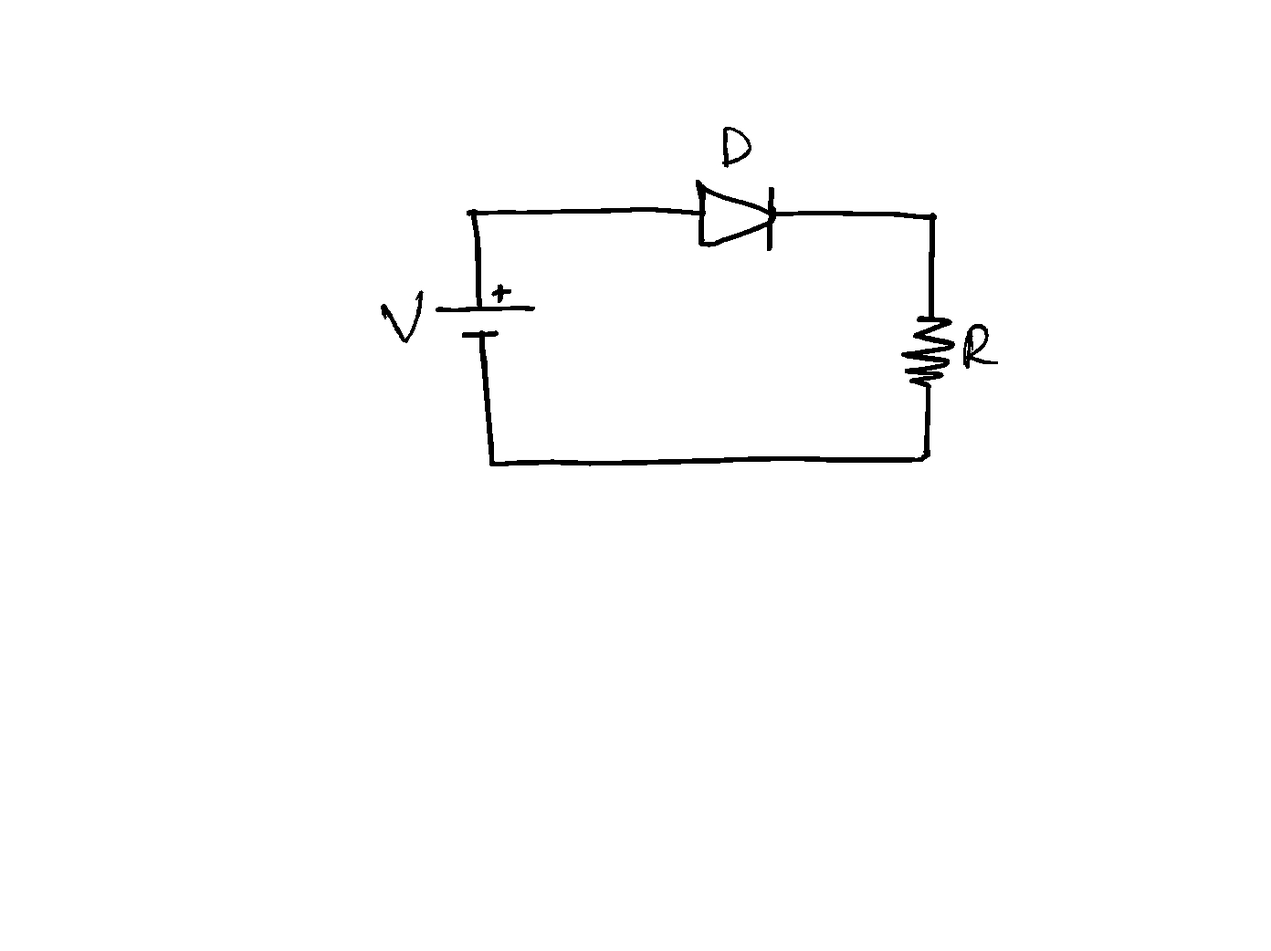diode: (695, 180, 778, 253)
junction: (912, 449, 932, 466), (484, 455, 500, 473), (465, 204, 480, 221), (926, 209, 940, 224)
resistor: (900, 313, 956, 388)
text: (379, 289, 425, 344), (961, 321, 1001, 370), (721, 123, 754, 171)
voltage.battery: (433, 282, 537, 339)
